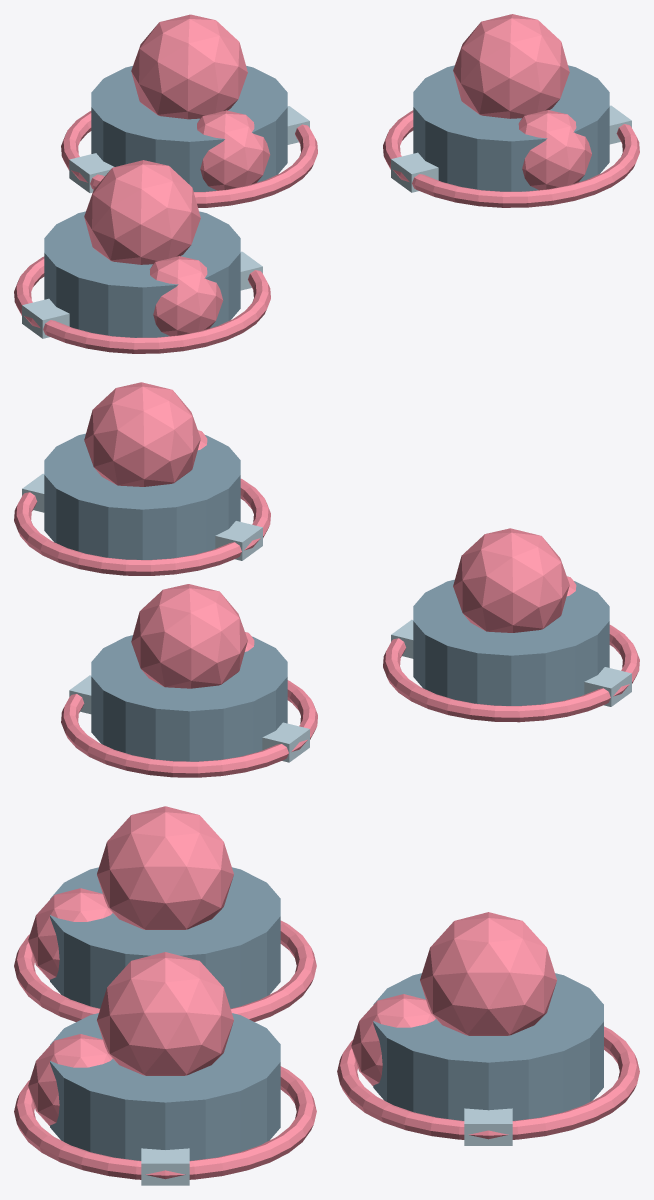
Rendered from scavenger_drone.glb.
3 views of the same model, one above another, from view 1: azimuth 30°, elevation 25°; view 2: azimuth 150°, elevation 25°; view 3: azimuth 270°, elevation 25° (orthographic). The views are drawn at different scales.
Visible parts, largest first — view 1: hover_carapace_6, hover_carapace_0, hover_carapace_12, hover_ai_eye_1, hover_ai_eye_7, hover_ai_eye_13, rotor_ring_8, rotor_ring_2, enemy_target_optic_17, enemy_target_optic_5, enemy_target_optic_11, rotor_ring_14 (+6 smaller); view 2: hover_carapace_12, hover_carapace_6, hover_carapace_0, hover_ai_eye_13, hover_ai_eye_7, hover_ai_eye_1, rotor_ring_14, rotor_ring_8, rotor_ring_2, rotor_fin_9, rotor_fin_3, rotor_fin_15; view 3: hover_carapace_12, hover_carapace_6, hover_carapace_0, hover_ai_eye_7, hover_ai_eye_13, hover_ai_eye_1, rotor_ring_8, rotor_ring_14, rotor_ring_2, enemy_target_optic_17, enemy_target_optic_11, enemy_target_optic_5 (+2 smaller).
Boxes of the visible parts, left/top/right/bottom form: hover_carapace_6: left=413, top=65, right=609, bottom=191; hover_carapace_0: left=44, top=211, right=240, bottom=337; hover_carapace_12: left=91, top=65, right=287, bottom=191; hover_ai_eye_1: left=84, top=160, right=200, bottom=264; hover_ai_eye_7: left=453, top=14, right=569, bottom=118; hover_ai_eye_13: left=131, top=14, right=247, bottom=119; rotor_ring_8: left=383, top=110, right=639, bottom=207; rotor_ring_2: left=14, top=256, right=270, bottom=353; enemy_target_optic_17: left=197, top=110, right=270, bottom=190; enemy_target_optic_5: left=149, top=256, right=223, bottom=336; enemy_target_optic_11: left=518, top=110, right=591, bottom=190; rotor_ring_14: left=61, top=111, right=317, bottom=207; hover_carapace_12: left=91, top=635, right=287, bottom=761; hover_carapace_6: left=44, top=433, right=240, bottom=559; hover_carapace_0: left=413, top=579, right=609, bottom=705; hover_ai_eye_13: left=131, top=584, right=247, bottom=688; hover_ai_eye_7: left=84, top=382, right=200, bottom=486; hover_ai_eye_1: left=453, top=528, right=569, bottom=632; rotor_ring_14: left=61, top=680, right=317, bottom=777; rotor_ring_8: left=14, top=478, right=270, bottom=575; rotor_ring_2: left=383, top=625, right=639, bottom=722; rotor_fin_9: left=215, top=521, right=262, bottom=560; rotor_fin_3: left=584, top=667, right=631, bottom=706; rotor_fin_15: left=262, top=722, right=309, bottom=762; hover_carapace_12: left=373, top=973, right=603, bottom=1120; hover_carapace_6: left=50, top=1013, right=280, bottom=1160; hover_carapace_0: left=50, top=867, right=280, bottom=1008; hover_ai_eye_7: left=97, top=952, right=233, bottom=1075; hover_ai_eye_13: left=420, top=912, right=556, bottom=1035; hover_ai_eye_1: left=97, top=806, right=233, bottom=929; rotor_ring_8: left=14, top=1066, right=316, bottom=1179; rotor_ring_14: left=337, top=1026, right=639, bottom=1139; rotor_ring_2: left=14, top=920, right=316, bottom=1021; enemy_target_optic_17: left=351, top=994, right=435, bottom=1086; enemy_target_optic_11: left=28, top=1034, right=112, bottom=1125; enemy_target_optic_5: left=28, top=888, right=112, bottom=980.
Bounding box in the file's own units: 1.99 × 0.66 × 1.55.
